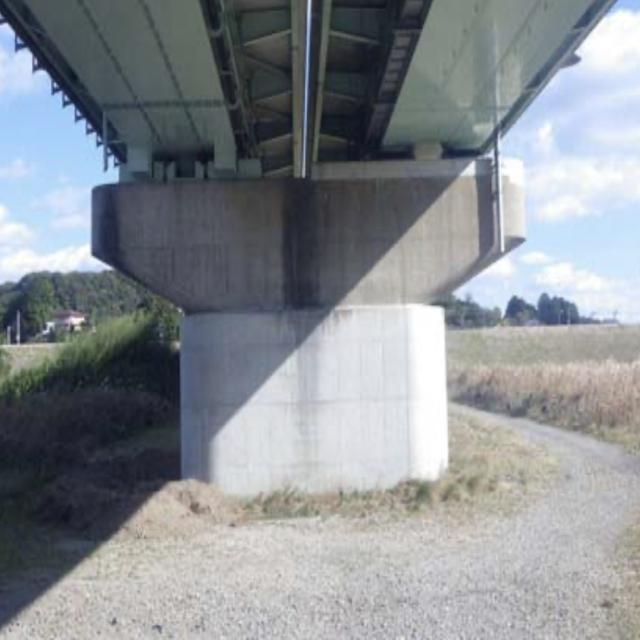leakage: (266, 162, 323, 348)
